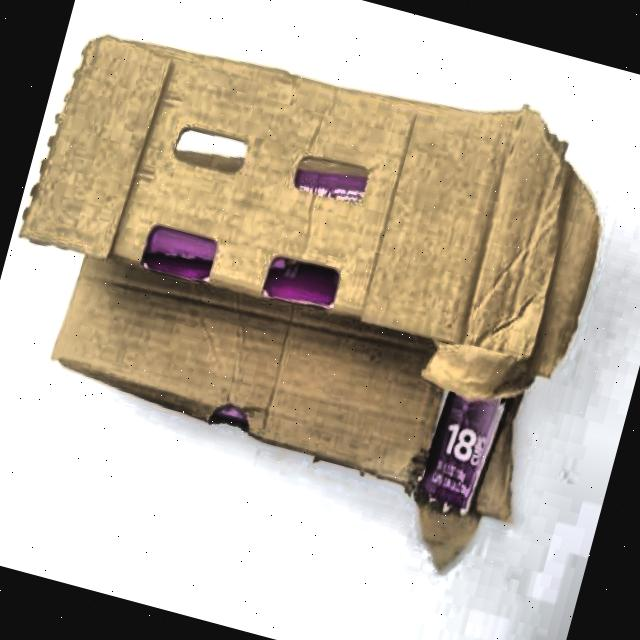cardboard: (0, 0, 619, 567)
